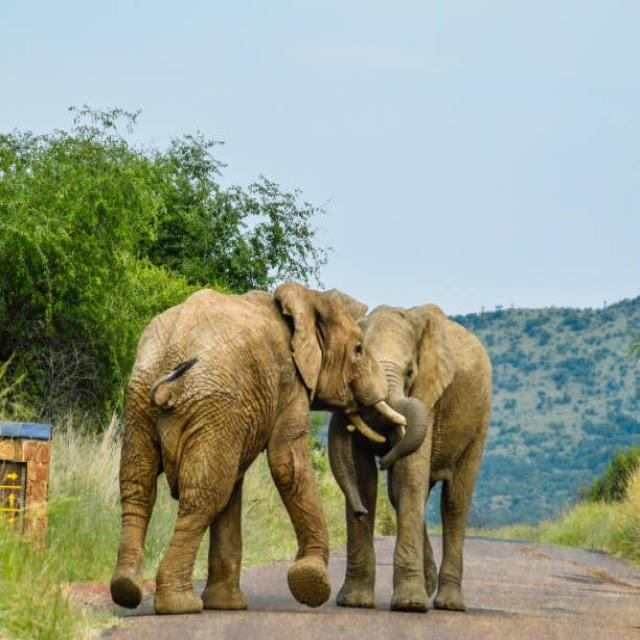Elephant: (102, 235, 378, 640), (319, 290, 562, 637)
